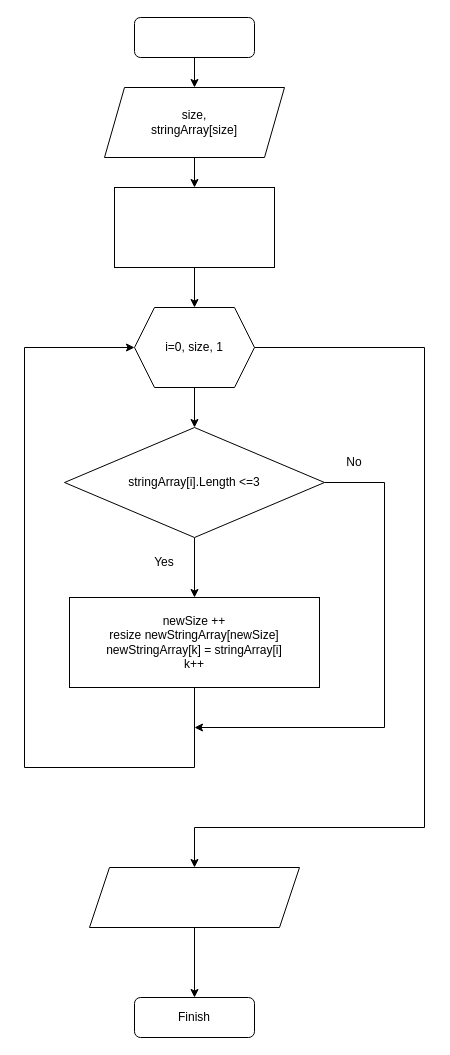
This 450x1055 diagram has some shape labels left out. The shapes that lost their labels are listed below. From the top down, each one's centre as x and y in pixels, then its label:
At (x=194, y=37): "Start".
At (x=194, y=227): "newSize = 0, k = 0, StringArray[newSize]".
At (x=194, y=897): "newStringArray[newSize]".
